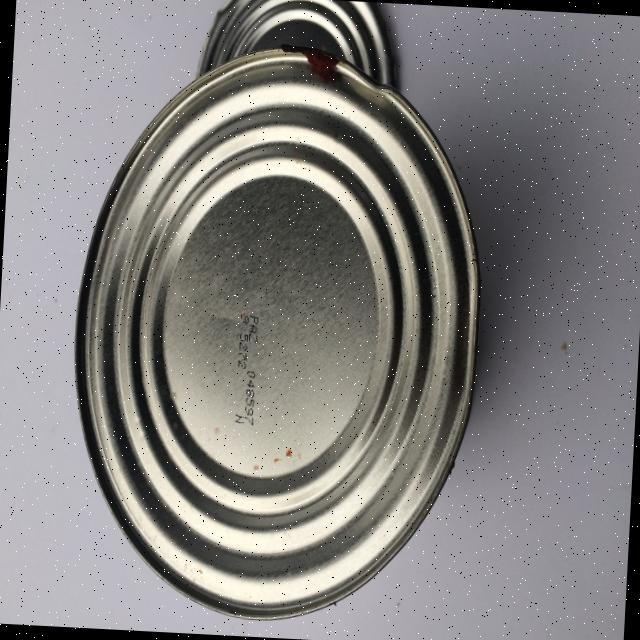metal: (60, 32, 494, 631)
